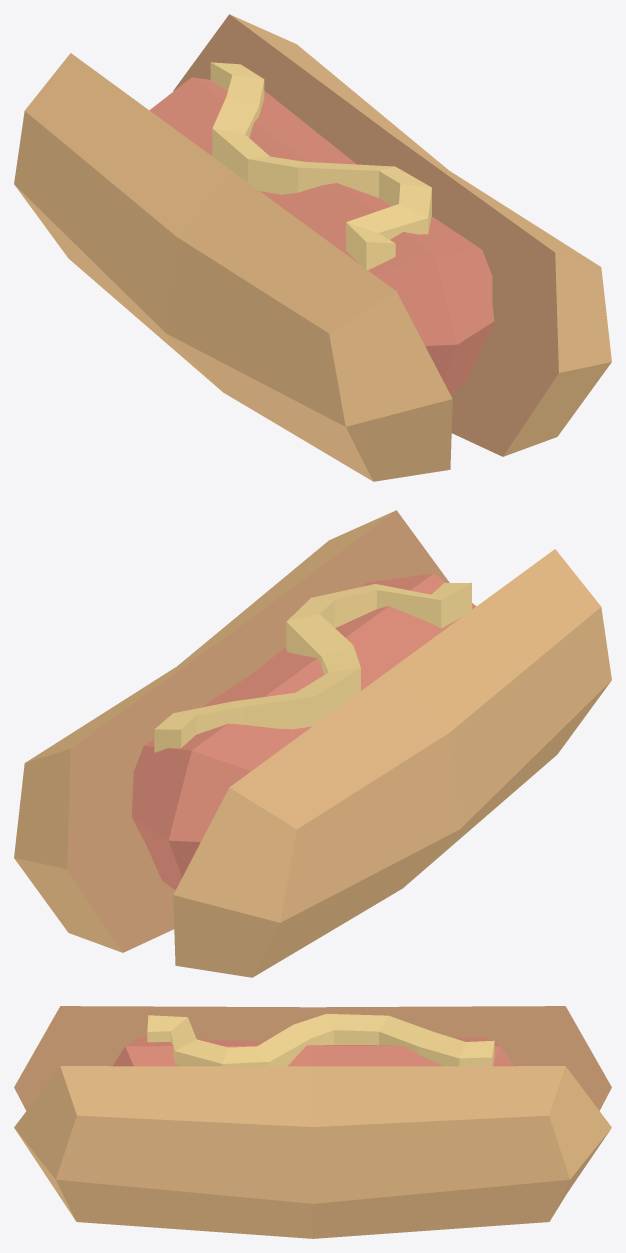
File: hotDog.glb
The picture shows the model from 3 angles, top to bottom: view 1: azimuth 30°, elevation 25°; view 2: azimuth 150°, elevation 25°; view 3: azimuth 270°, elevation 25°; orthographic projection. The views are drawn at different scales.
Visible parts, largest first — view 1: hotDog; view 2: hotDog; view 3: hotDog.
Boxes of the visible parts, x1,y1,x2,y2 form: hotDog: (14,14,611,481); hotDog: (14,510,611,977); hotDog: (14,1006,611,1238).
Bounding box in the file's own units: 0.2926 × 0.2169 × 0.665.
1 material, 1 textured.
